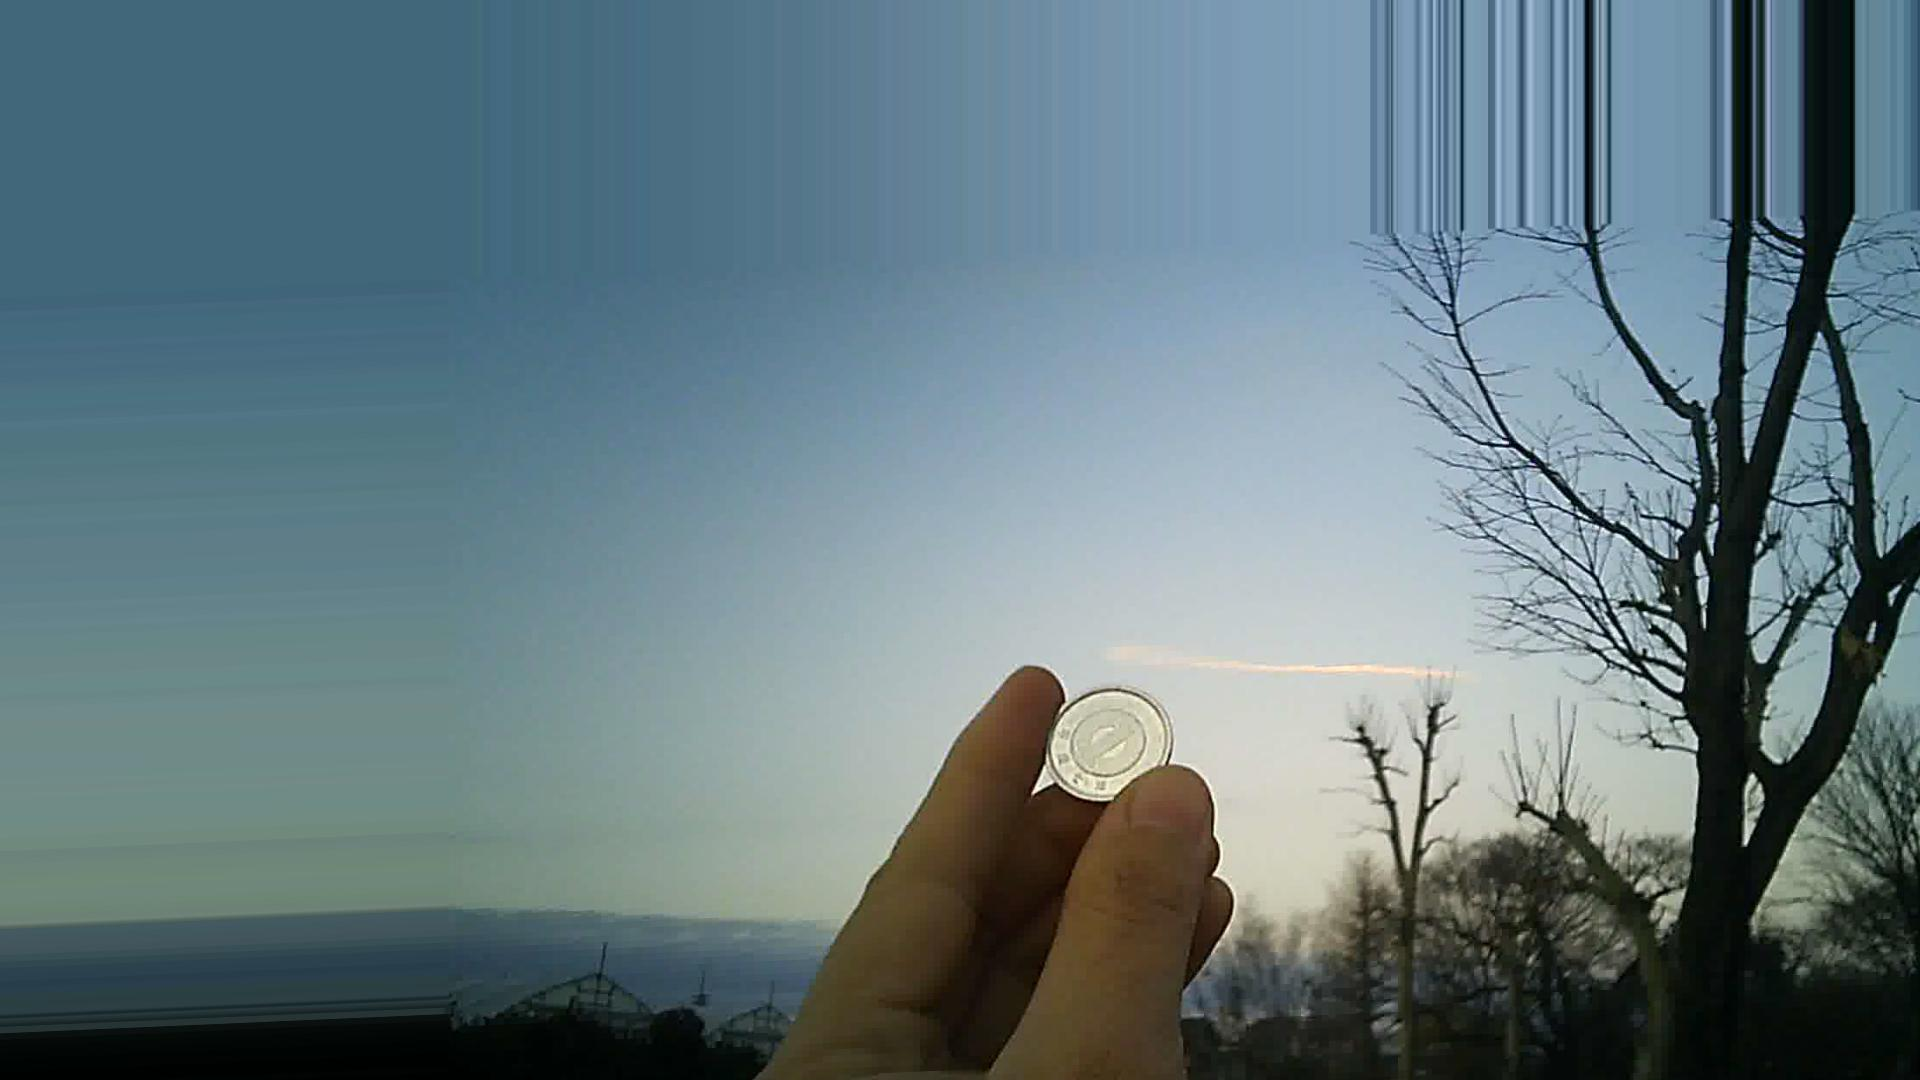1 Yen: (1043, 671, 1193, 812)
